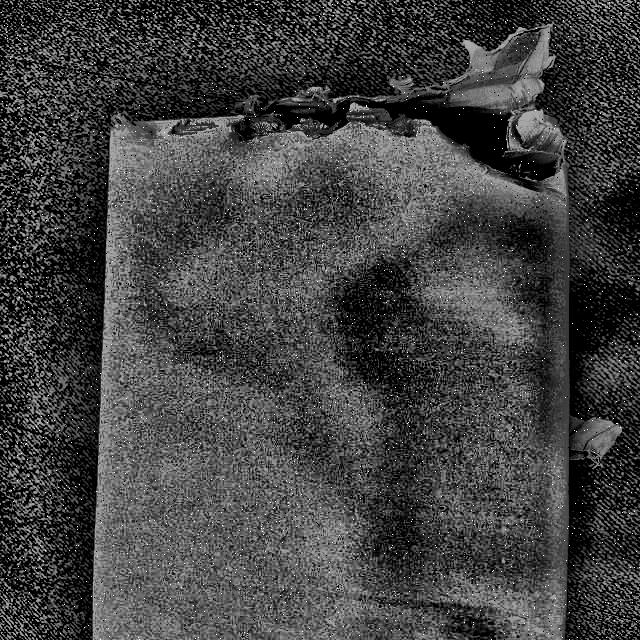box: (80, 82, 601, 640)
hole: (237, 102, 567, 191)
